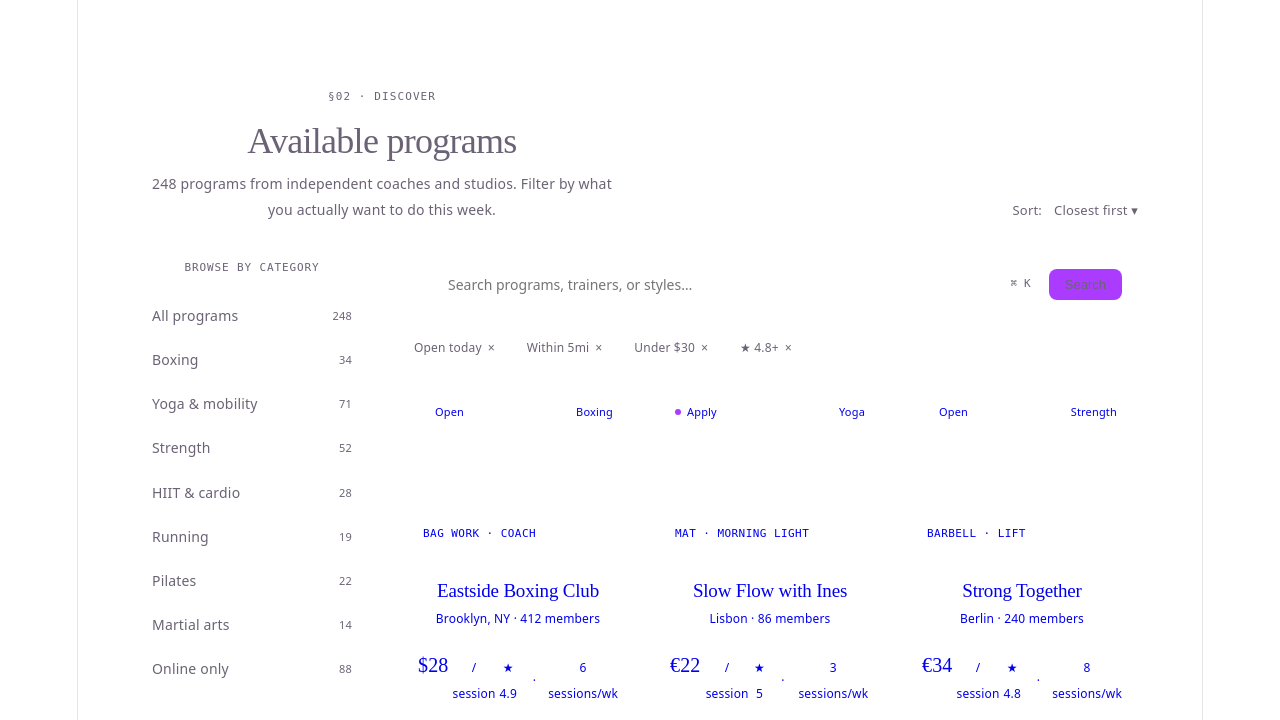
Test case: DiscoveryPage › shows all programs again when All programs is selected
The width and height of the screenshot is (1280, 720).
(page scrolled)
Click the text "Boxing" below "All programs".
click(175, 360)  # box [152,347,199,373]
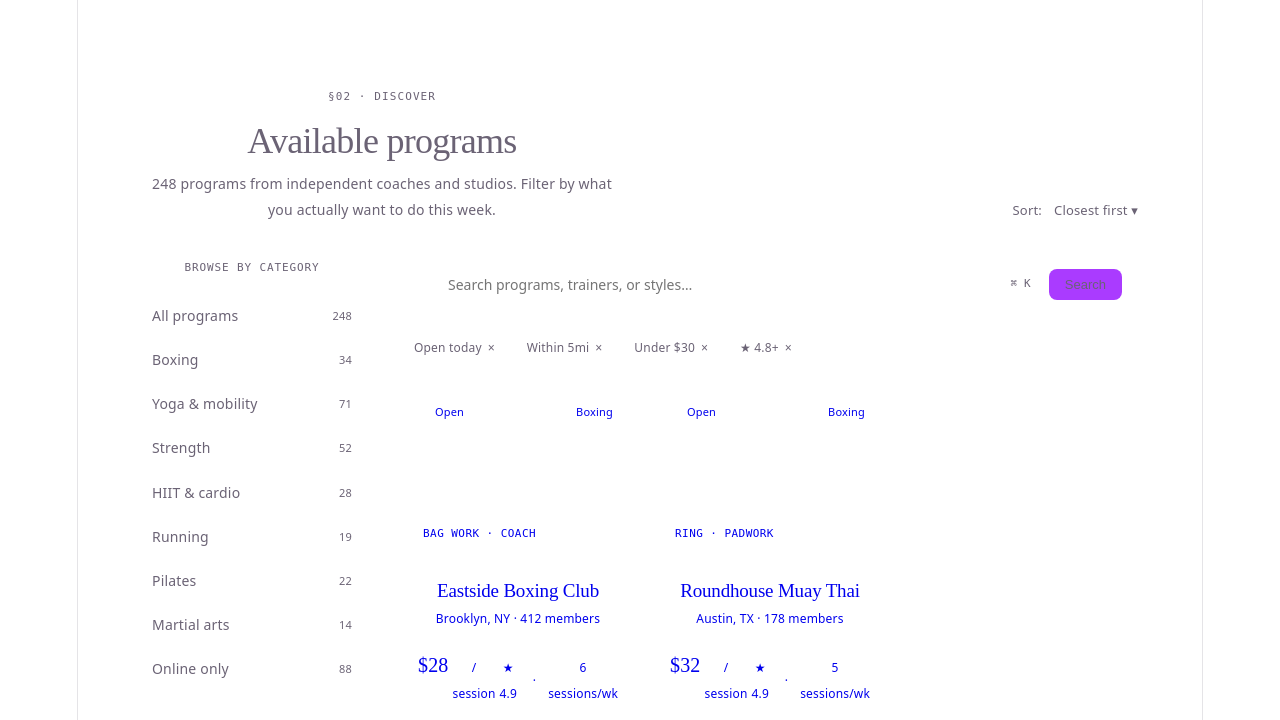
Click the text "All programs".
click(195, 316)  # box [152,303,238,329]
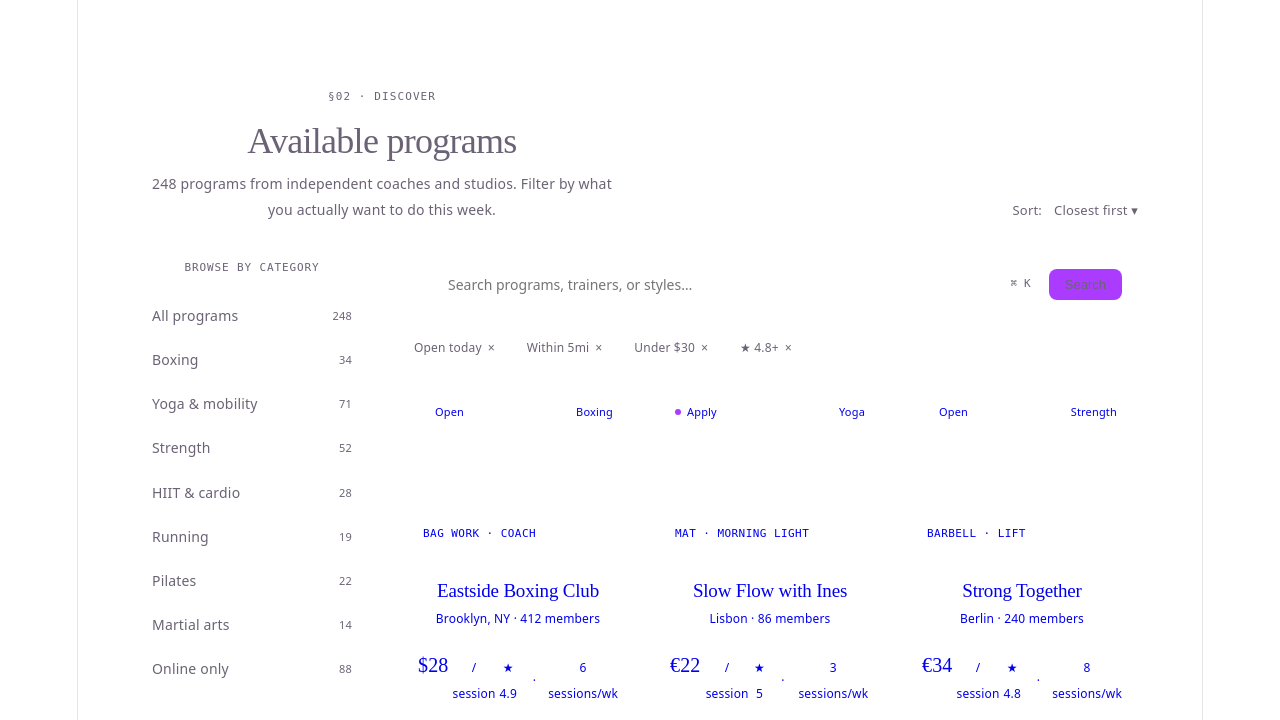
Result: the text "Slow Flow with Ines" is shown at [693,580,847,601]
